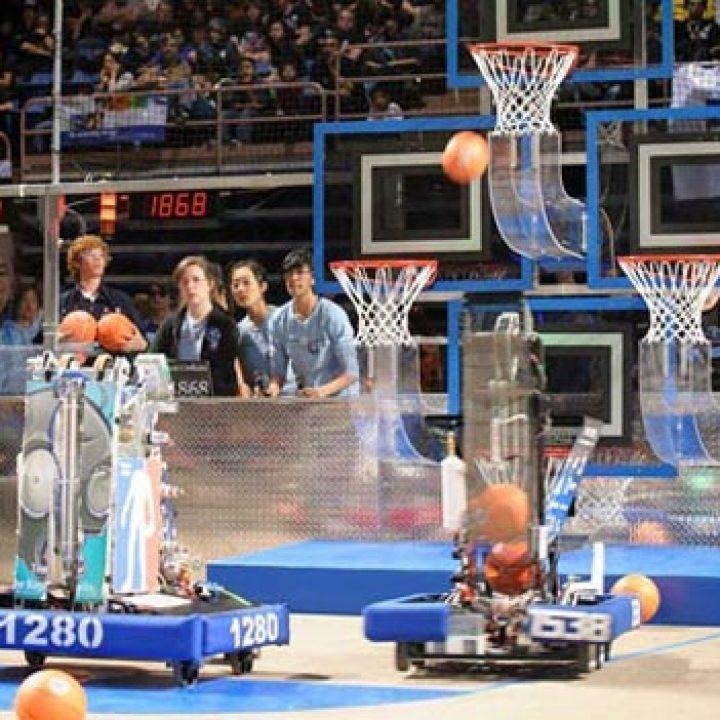robot: (0, 306, 297, 690), (357, 305, 647, 682)
